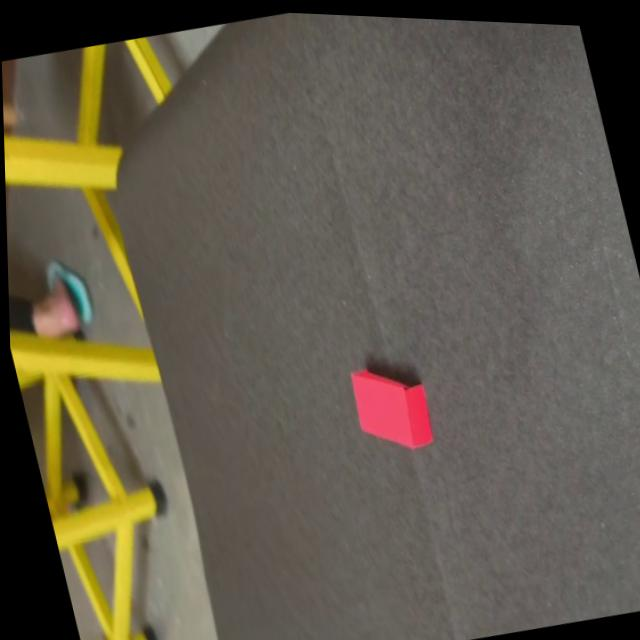red block: (343, 354, 437, 459)
